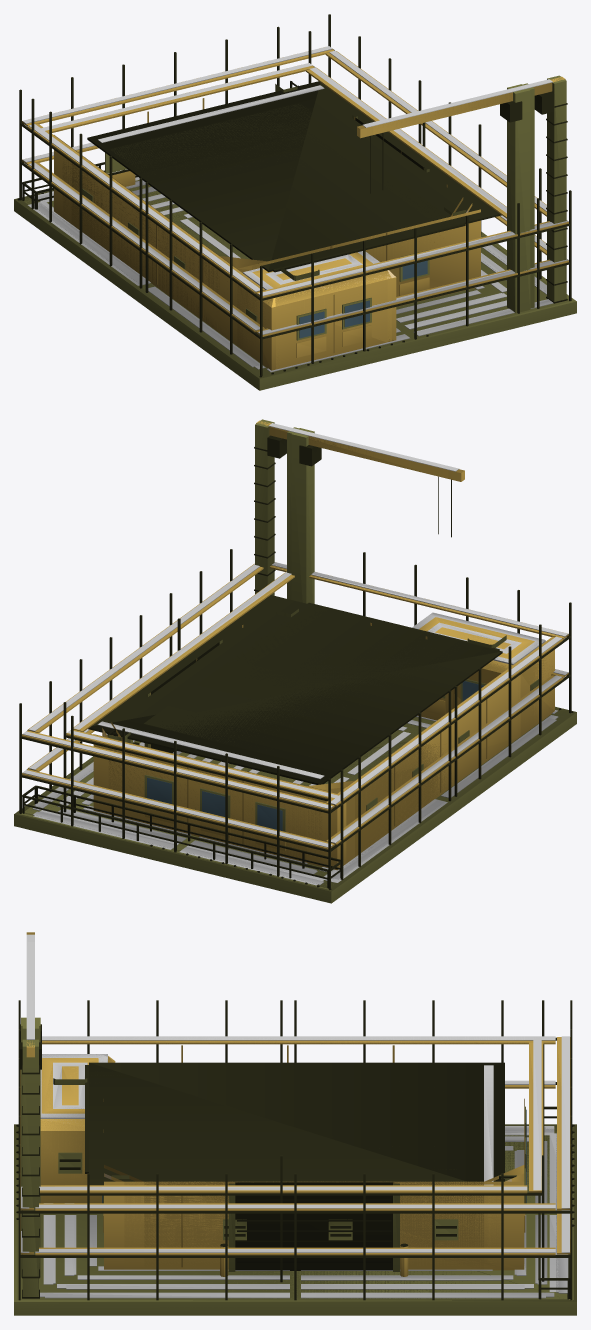
Rendered from meridian_vehicle_factory_scaffolding.glb.
The picture shows the model from 3 angles, top to bottom: view 1: azimuth 30°, elevation 25°; view 2: azimuth 150°, elevation 25°; view 3: azimuth 270°, elevation 25°; orthographic projection. The views are drawn at different scales.
Parts seen in each view (by area): view 1: body (×3); view 2: body (×3); view 3: body (×3).
Boxes of the visible parts, left/top/right/bottom form: body (×3): left=14, top=14, right=576, bottom=390; body (×3): left=14, top=419, right=576, bottom=903; body (×3): left=14, top=932, right=576, bottom=1315.
Bounding box in the file's own units: 11.2 × 7.82 × 15.
